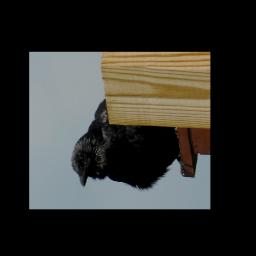Crow: (70, 99, 185, 194)
